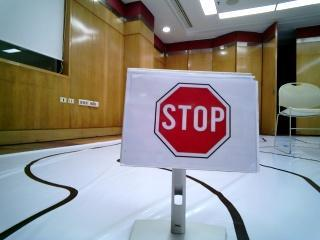stop: (125, 75, 263, 173)
